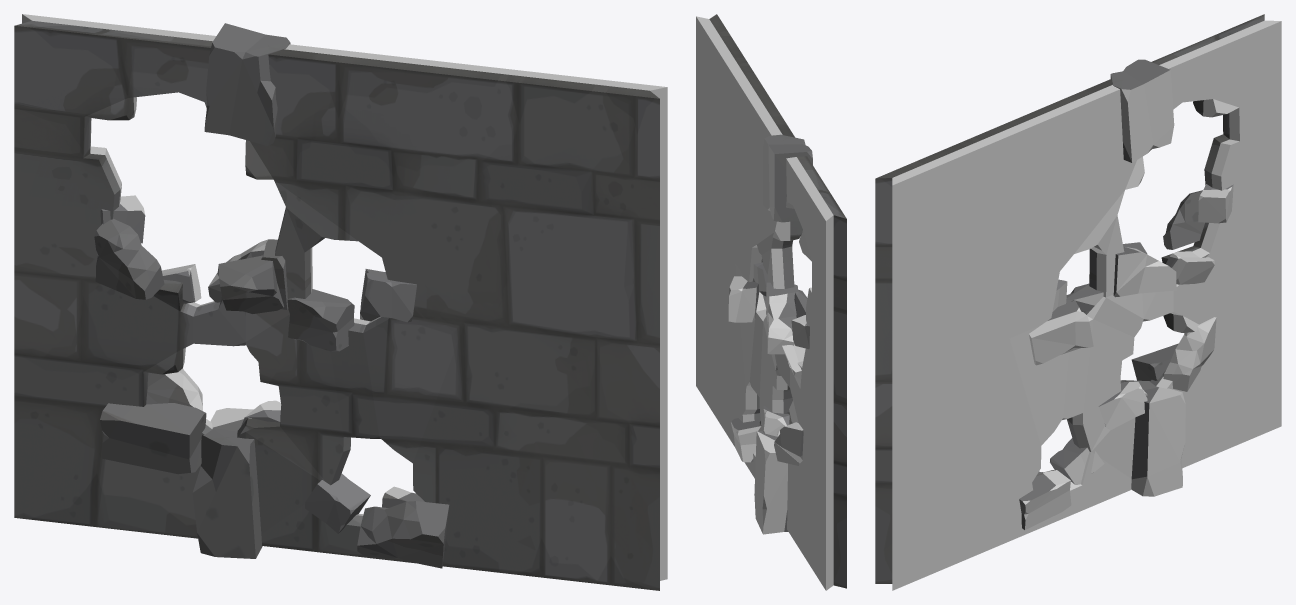
Rendered from SM_Bld_45_Wall_L_Damaged_02.fbx.
3 renders of one model, left to right at view 1: azimuth 30°, elevation 25°; view 2: azimuth 150°, elevation 25°; view 3: azimuth 270°, elevation 25°, orthographic. The views are drawn at different scales.
Parts seen in each view (by area): view 1: SM_Bld_45_Wall_L_Damaged_02; view 2: SM_Bld_45_Wall_L_Damaged_02; view 3: SM_Bld_45_Wall_L_Damaged_02.
Boxes of the visible parts, x1,y1,x2,y2 form: SM_Bld_45_Wall_L_Damaged_02: [14, 14, 667, 590]; SM_Bld_45_Wall_L_Damaged_02: [696, 14, 846, 590]; SM_Bld_45_Wall_L_Damaged_02: [875, 14, 1281, 590].
Bounding box in the file's own units: 545 × 618 × 545.
